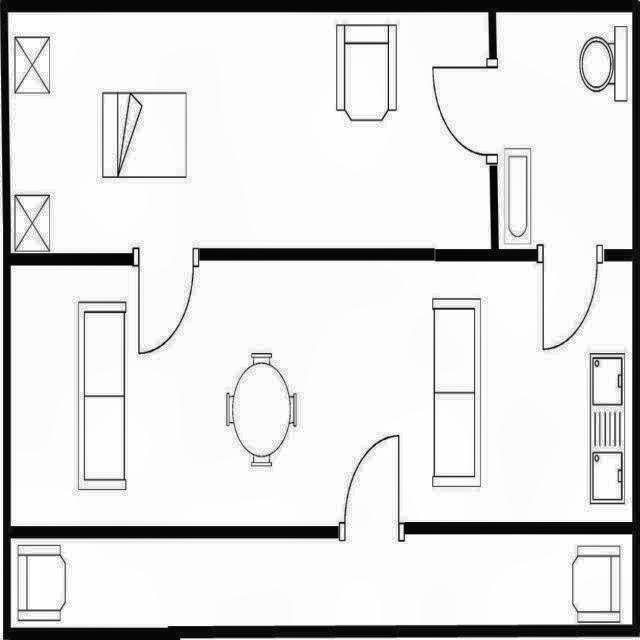room: (11, 260, 632, 526), (8, 11, 491, 253), (10, 532, 633, 629), (496, 12, 633, 249)
